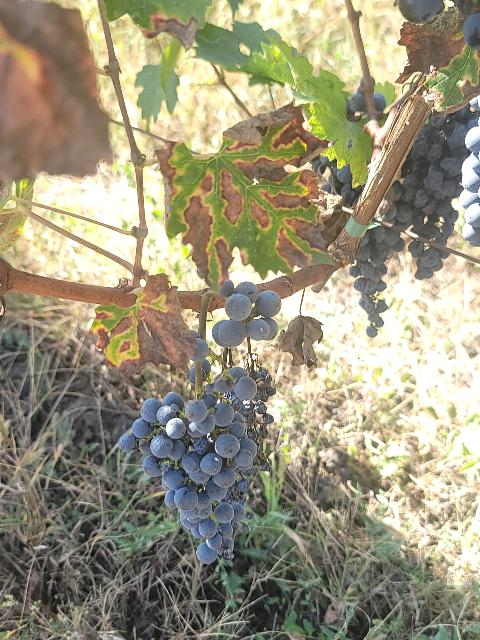grapes: (119, 356, 275, 564), (402, 106, 479, 245), (409, 241, 448, 279)
